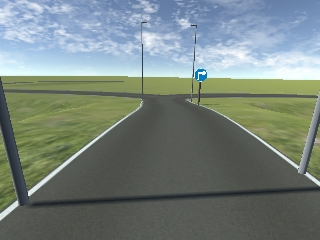right: (194, 69, 208, 82)
